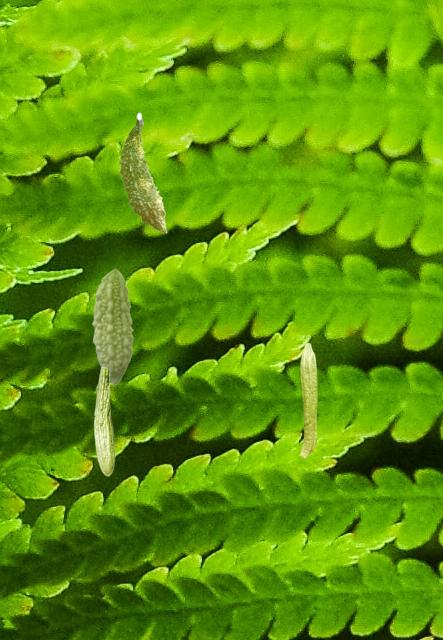ampalaya: (118, 112, 167, 233), (91, 268, 134, 385), (93, 366, 115, 476), (299, 342, 318, 458)
